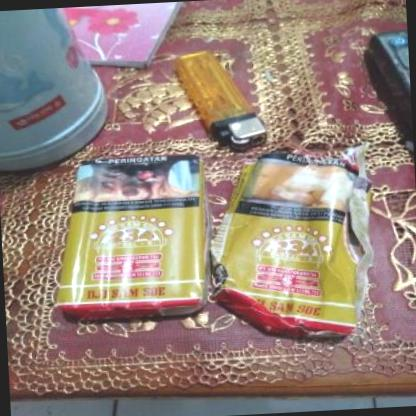objects: (207, 144, 378, 342), (49, 152, 216, 322)
